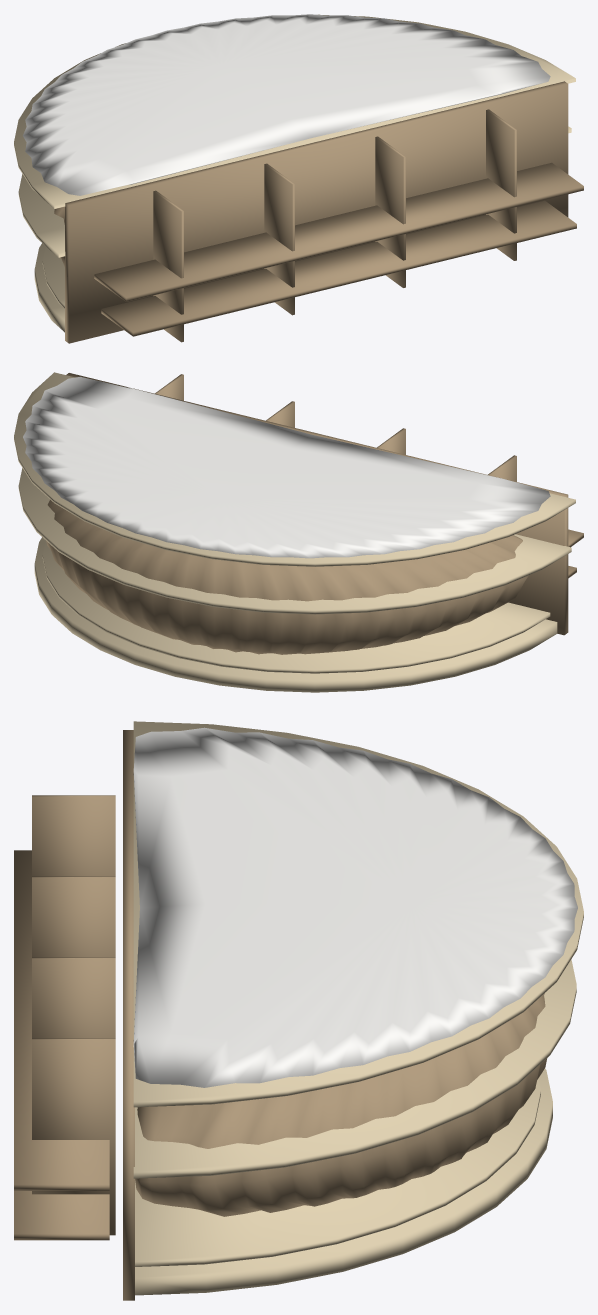
Rendered from reception_desk.glb.
The picture shows the model from 3 angles, top to bottom: view 1: azimuth 30°, elevation 25°; view 2: azimuth 150°, elevation 25°; view 3: azimuth 270°, elevation 25°; orthographic projection. The views are drawn at different scales.
Visible parts, largest first — view 1: ReceptionDesk; view 2: ReceptionDesk; view 3: ReceptionDesk.
Boxes of the visible parts, <box> form: ReceptionDesk: <box>14,14,583,343</box>; ReceptionDesk: <box>14,372,583,692</box>; ReceptionDesk: <box>14,721,583,1300</box>.
Size of the model in its own units: 3.76 by 0.9938 by 2.38.
